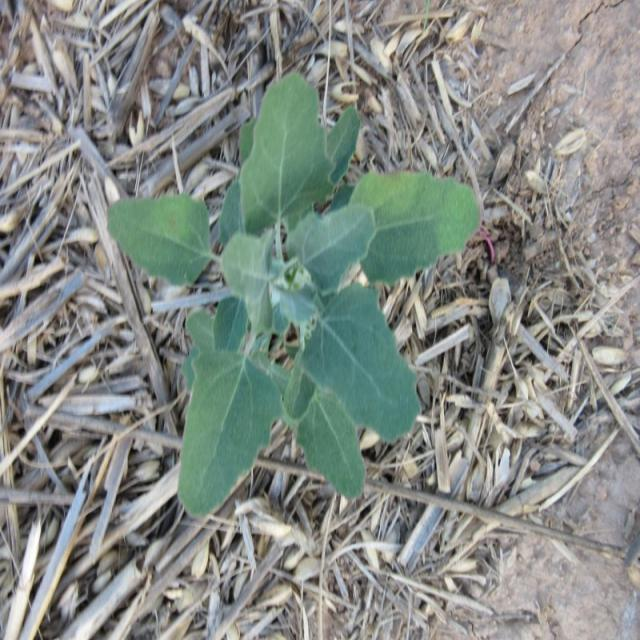ca: (172, 71, 483, 522)
